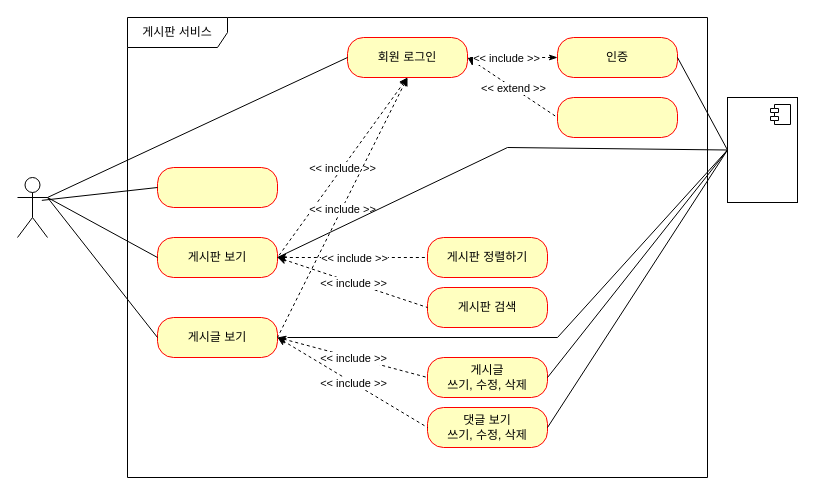
The diagram is 815 pixels wide and 495 high, and some of its shapes have lost their labels. The centre of each missing label's shape, as x and y in pixels:
"DB" belongs at point 762,149.
"User" belongs at point 32,207.
"로그인 실패" belongs at point 617,117.
"회원가입" belongs at point 217,187.
